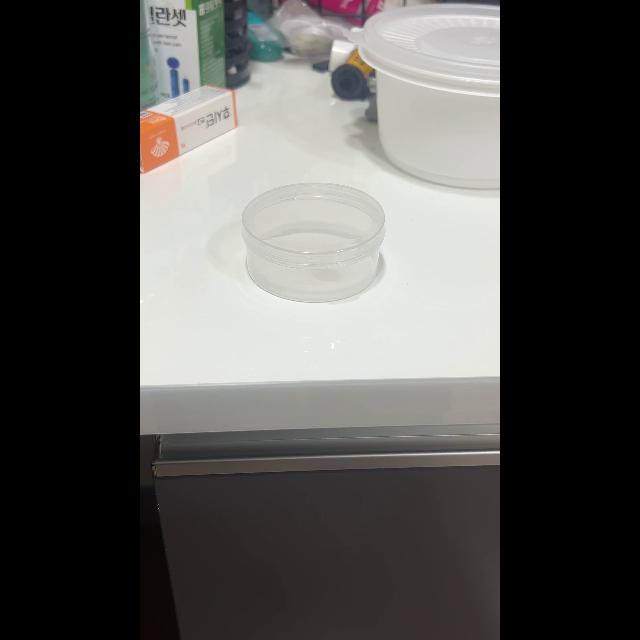clean: (244, 173, 382, 307)
